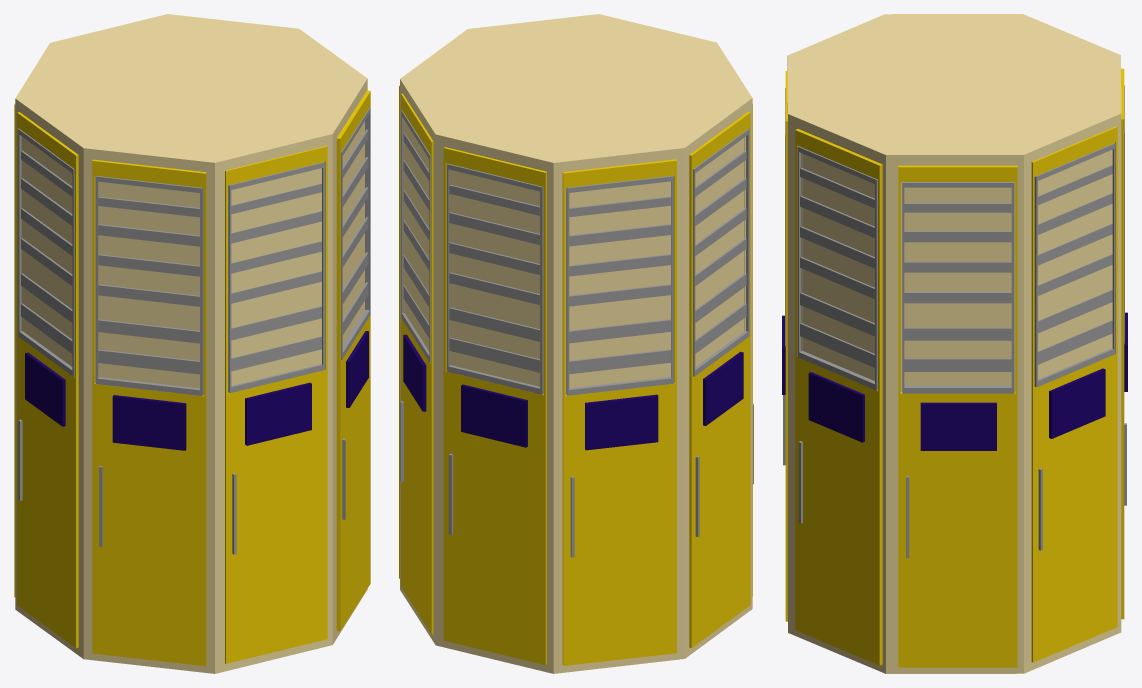
File: arrojable escudo.fbx
3 renders of one model, left to right at view 1: azimuth 30°, elevation 25°; view 2: azimuth 150°, elevation 25°; view 3: azimuth 270°, elevation 25°, orthographic.
Visible parts, largest first — view 1: pCylinder1, pCube15 (×4), pCube13, pCube14 (×3), pCube8; view 2: pCylinder1, pCube15 (×5), pCube14 (×4); view 3: pCylinder1, pCube15 (×4), pCube14 (×3), pCube13.
Boxes of the visible parts, x1,y1,x2,y2 form: pCylinder1: (15, 14, 367, 673); pCube15 (×4): (14, 90, 370, 666); pCube13: (225, 146, 327, 663); pCube14 (×3): (18, 107, 370, 395); pCube8: (228, 162, 325, 393); pCylinder1: (400, 14, 752, 673); pCube15 (×5): (400, 93, 753, 665); pCube14 (×4): (401, 110, 749, 395); pCylinder1: (787, 14, 1121, 673); pCube15 (×4): (795, 68, 1127, 667); pCube14 (×3): (797, 143, 1115, 393); pCube13: (782, 71, 787, 621).
Size of the model in its own units: 8.22 by 13.5 by 8.15.
